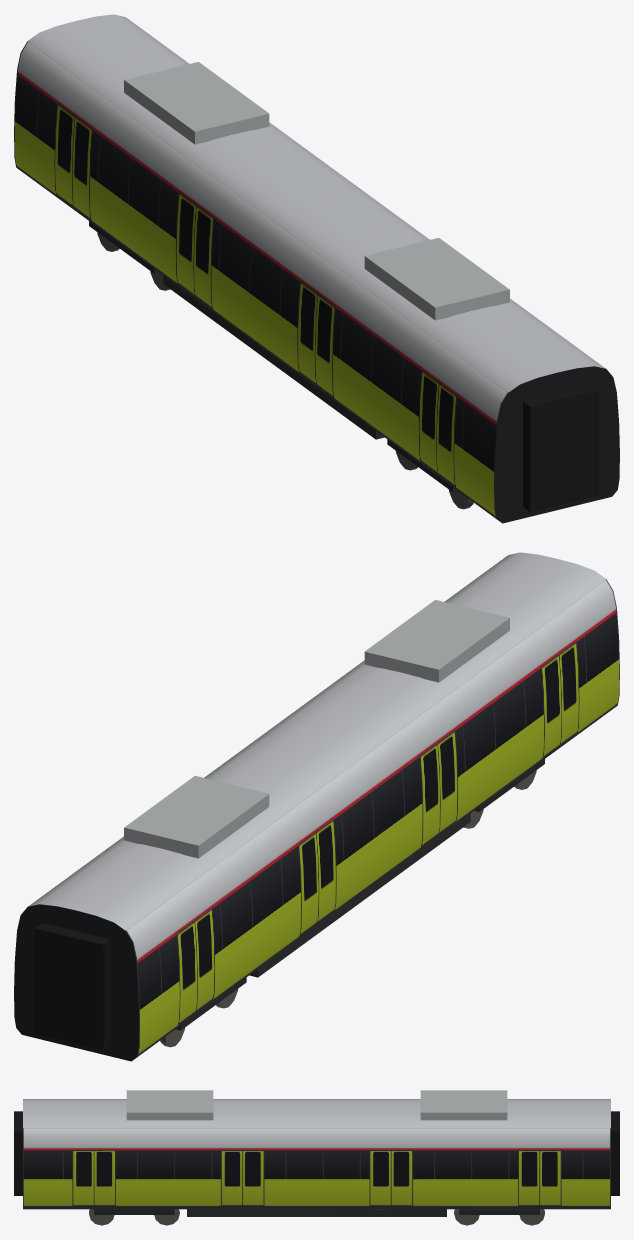
File: SM_Train_Mid.fbx
3 renders of one model, top to bottom at view 1: azimuth 30°, elevation 25°; view 2: azimuth 150°, elevation 25°; view 3: azimuth 270°, elevation 25°, orthographic. The views are drawn at different scales.
Visible parts, largest first — view 1: SM_Train_Mid_LOD0; view 2: SM_Train_Mid_LOD0; view 3: SM_Train_Mid_LOD0.
Part boxes in pixels (<box>): SM_Train_Mid_LOD0: <box>14,14,619,523</box>; SM_Train_Mid_LOD0: <box>14,552,619,1061</box>; SM_Train_Mid_LOD0: <box>14,1090,619,1225</box>.
Size of what is drawn, in the model's own units: 2.86 by 4.06 by 19.58.
